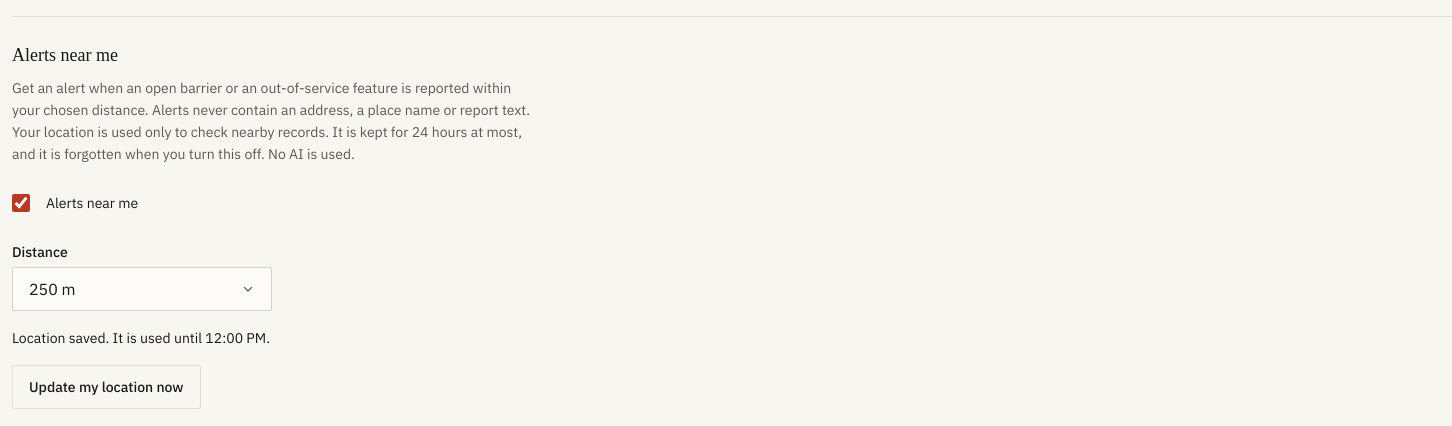
Test: alerts near me (settings) › turning it off stops sharing and forgets the saved location
Click the checkbox labelled "Alerts near me" at (21, 203), box x1=12 y1=194 x2=30 y2=212
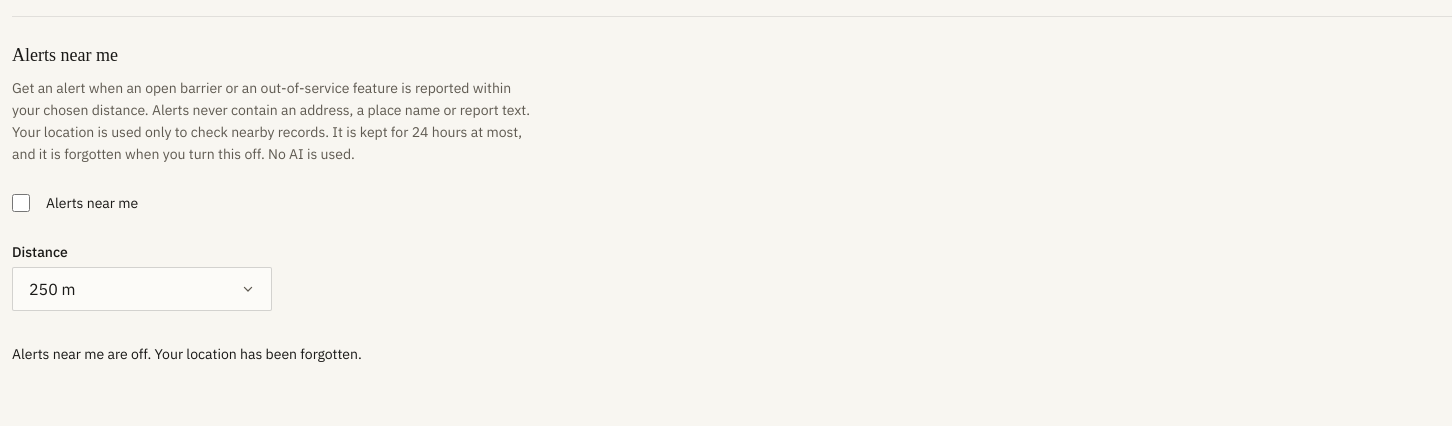
Expected: the text "Alerts near me are off. Your location has been forgotten." is shown, x1=12 y1=345 x2=362 y2=363
